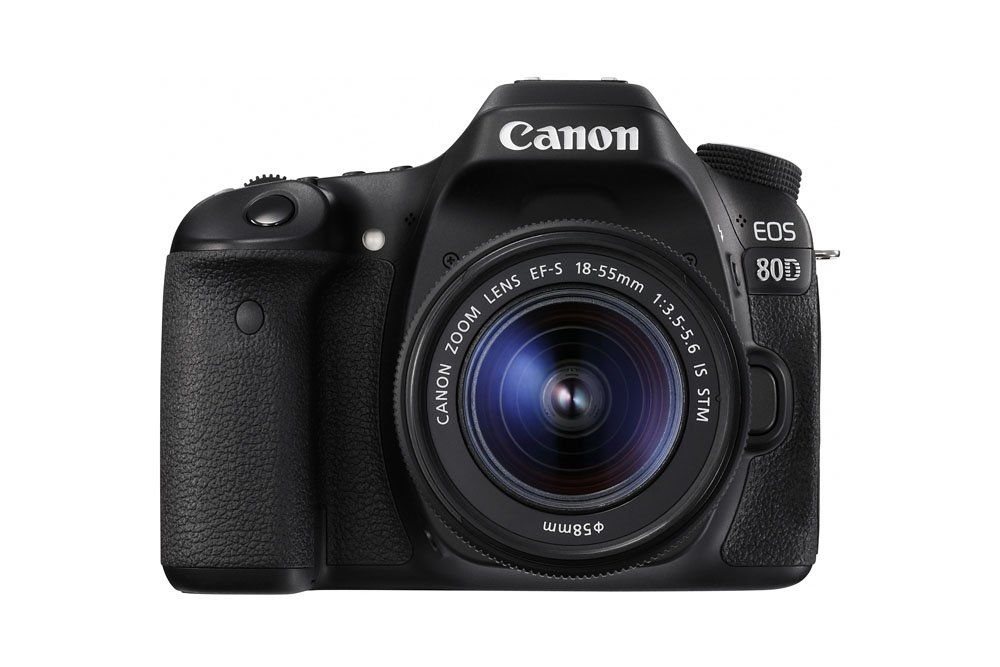kamera: (147, 68, 850, 621)
